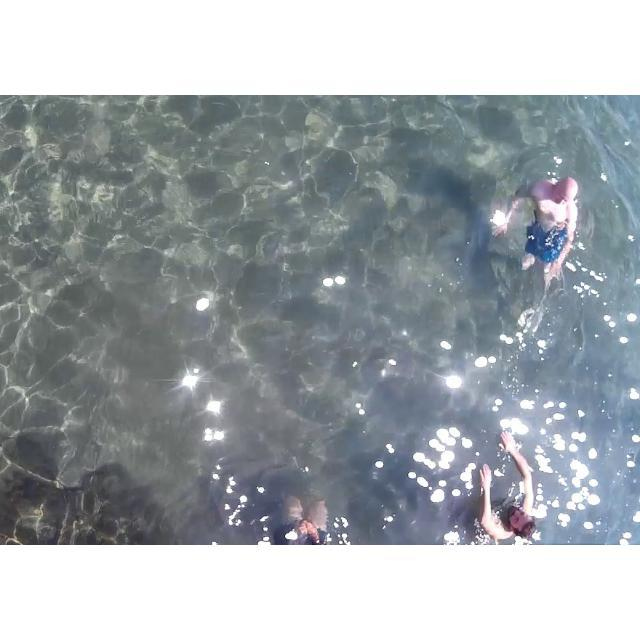human: (493, 150, 587, 319)
